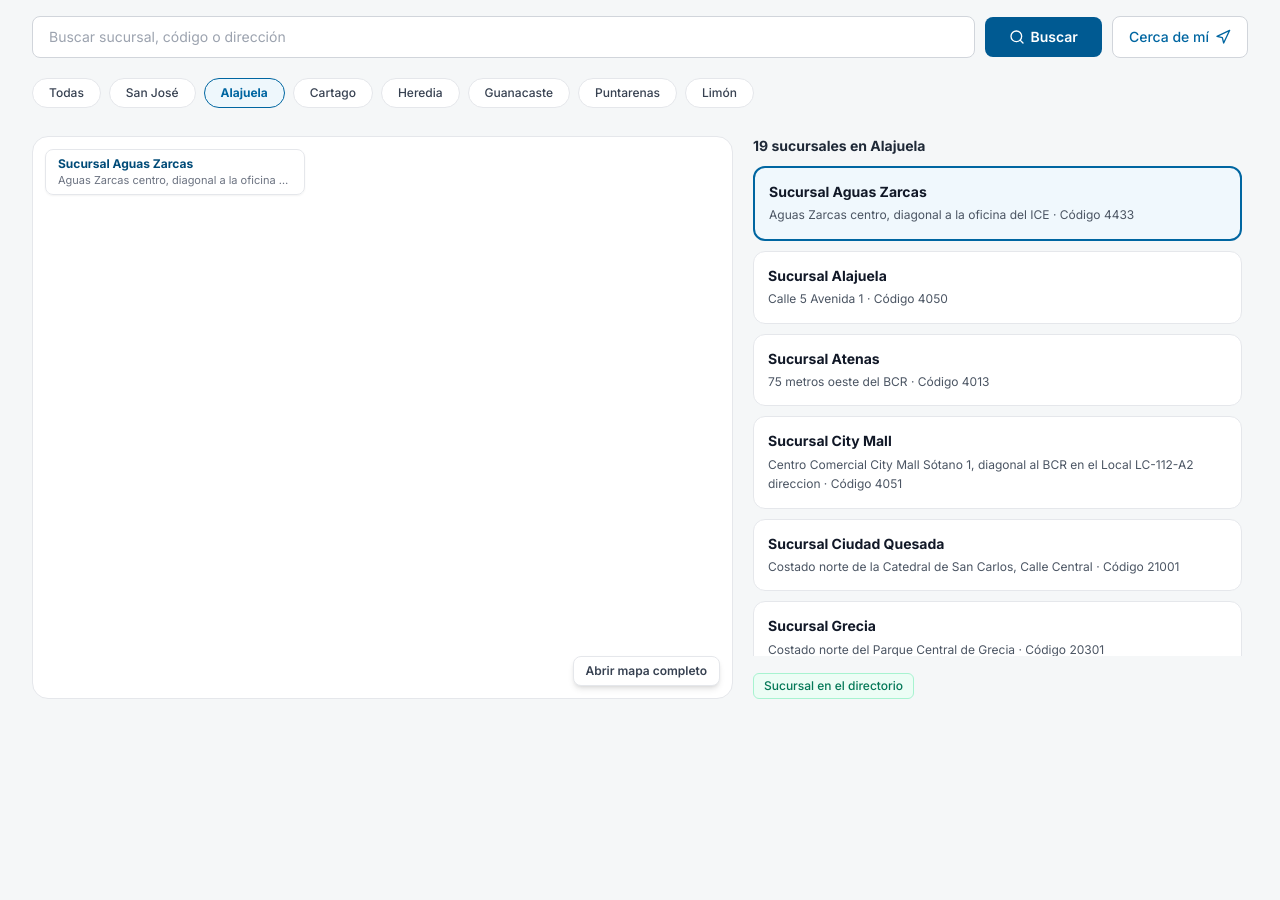
Test: SucursalesMapLocator - Localizador Geográfico Oficial › permite filtrar por otra provincia (ej. San José o Cartago)
This screenshot has width=1280, height=900.
Click the button "San José" at (152, 93), box [109, 78, 196, 108]
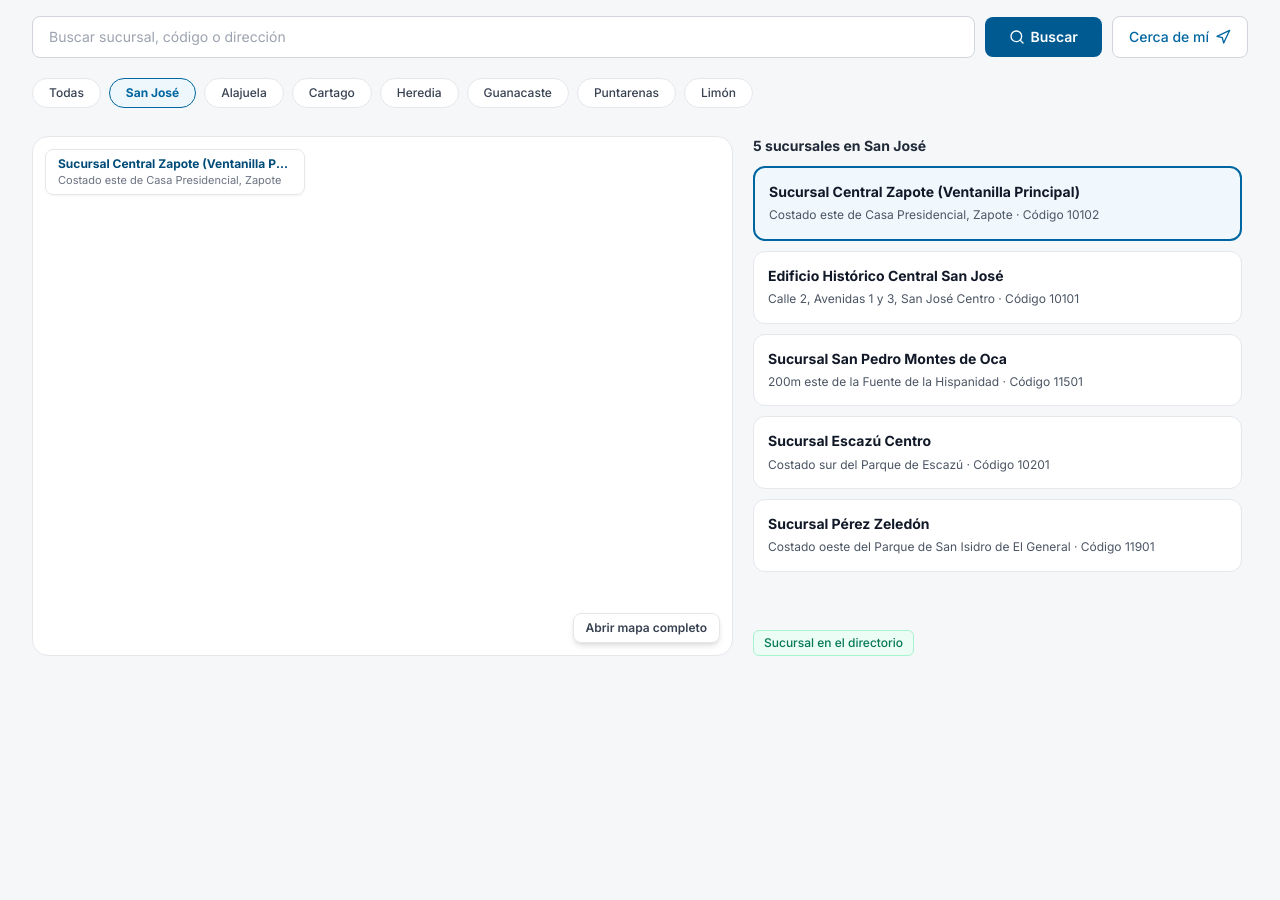
Expected: the heading "5 sucursales en San José" is shown, [753, 137, 926, 154]
